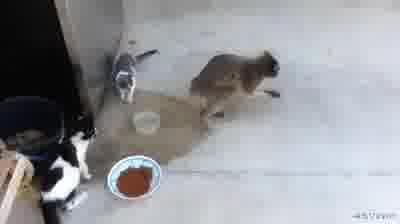raccoon: (188, 48, 282, 131)
